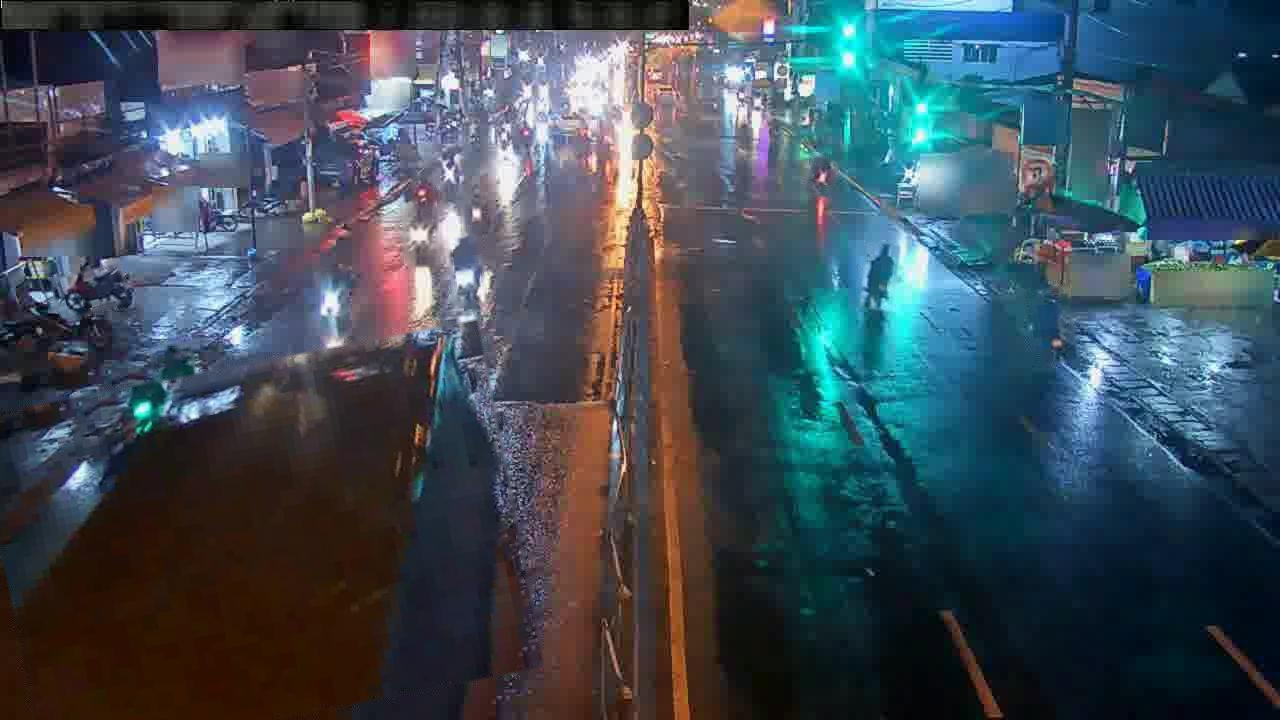Motorcyclist: (62, 268, 132, 315), (1029, 286, 1071, 358), (451, 235, 485, 306), (154, 345, 195, 402), (863, 243, 895, 310), (408, 206, 437, 266), (320, 268, 350, 320), (810, 157, 835, 197), (465, 193, 486, 228), (799, 355, 800, 357)
Traffic light: (414, 181, 435, 224)
Truck: (0, 332, 523, 719)
